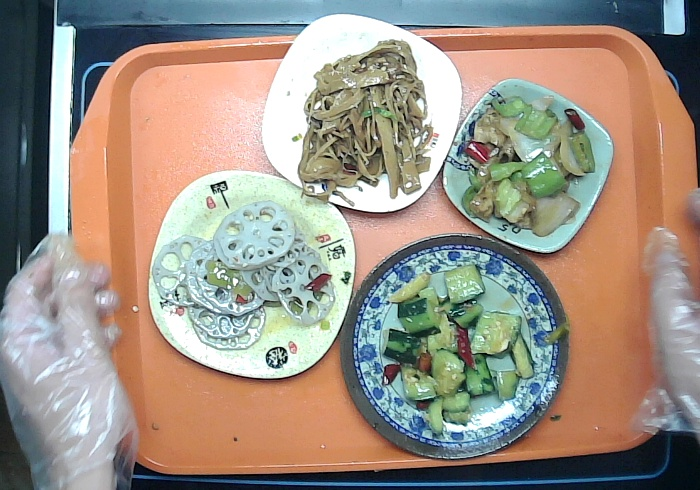NLDX-Bai_Se_Xiao_Fang_Die: (259, 11, 465, 217)
NLDX-Fu_Zi_Fang_Die: (145, 167, 358, 382)
NLDX-Qing_Hua_Xiao_Fang_Die: (440, 76, 615, 256)
NLDX-Qing_Hua_Yuan_Die: (337, 229, 573, 463)
